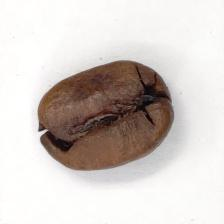NG: (54, 85, 157, 148)
